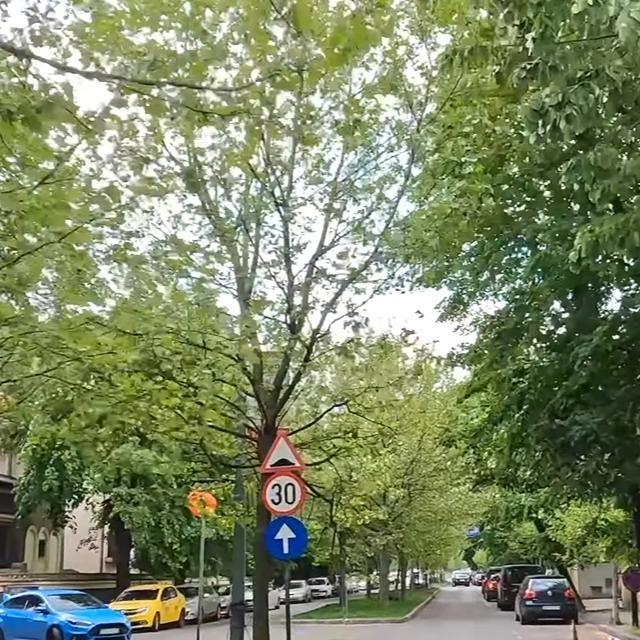forb_speed_over_30: (262, 470, 306, 515)
